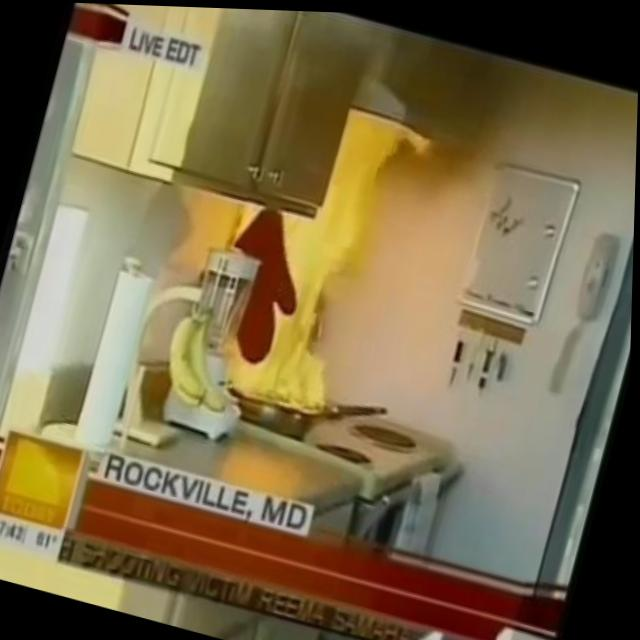fire: (218, 132, 400, 428)
